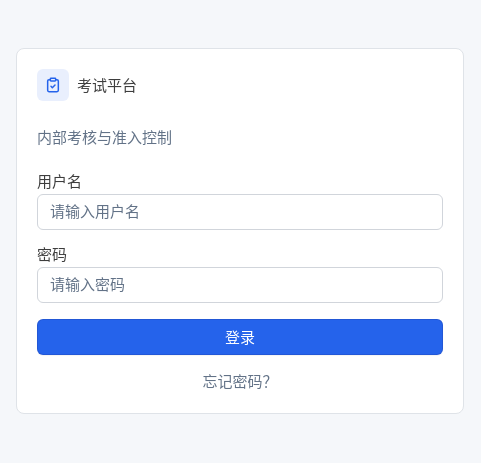
Test: LoginPage smoke › shows error message when login fails
In the field labelled "用户名": (240, 212) x1=37 y1=194 x2=443 y2=230, type "admin"
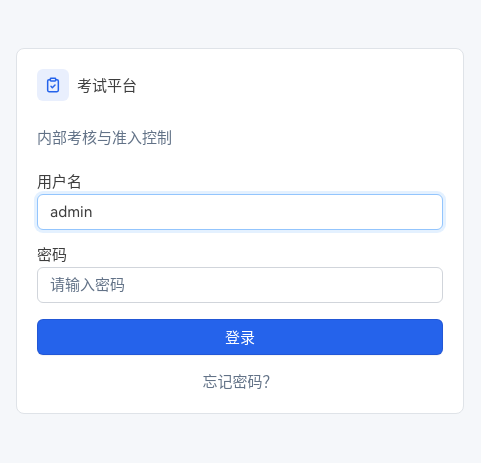
In the password field labelled "密码": (240, 285) x1=37 y1=267 x2=443 y2=303, type "wrong"
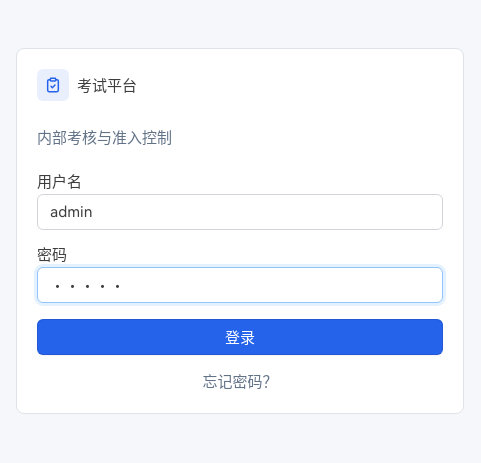
Click the button "登录": (240, 337) x1=37 y1=319 x2=443 y2=355
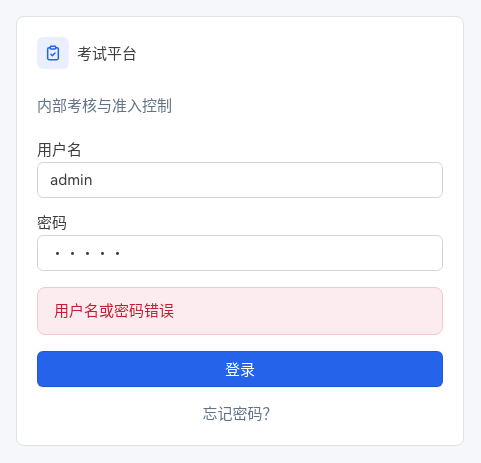
Expected: the message reads "用户名或密码错误", x1=54 y1=302 x2=174 y2=320
